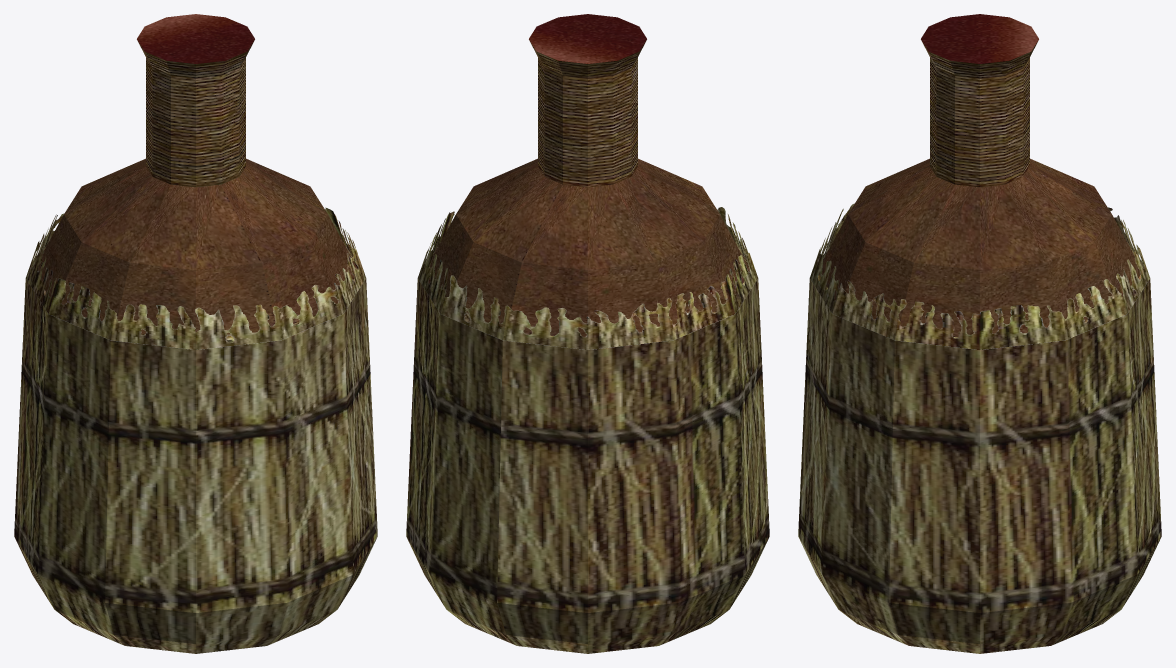
File: ITMI_RUM_02.glb
The picture shows the model from 3 angles, left to right: view 1: azimuth 30°, elevation 25°; view 2: azimuth 150°, elevation 25°; view 3: azimuth 270°, elevation 25°; orthographic projection.
Parts seen in each view (by area): view 1: ITMI_RUM_02; view 2: ITMI_RUM_02; view 3: ITMI_RUM_02.
Part boxes in pixels (x1,y1,x2,y2): ITMI_RUM_02: [14, 14, 377, 653]; ITMI_RUM_02: [406, 14, 769, 653]; ITMI_RUM_02: [798, 14, 1161, 653].
Bounding box in the file's own units: 0.3353 × 0.5645 × 0.3353.
4 materials, 4 textured.
